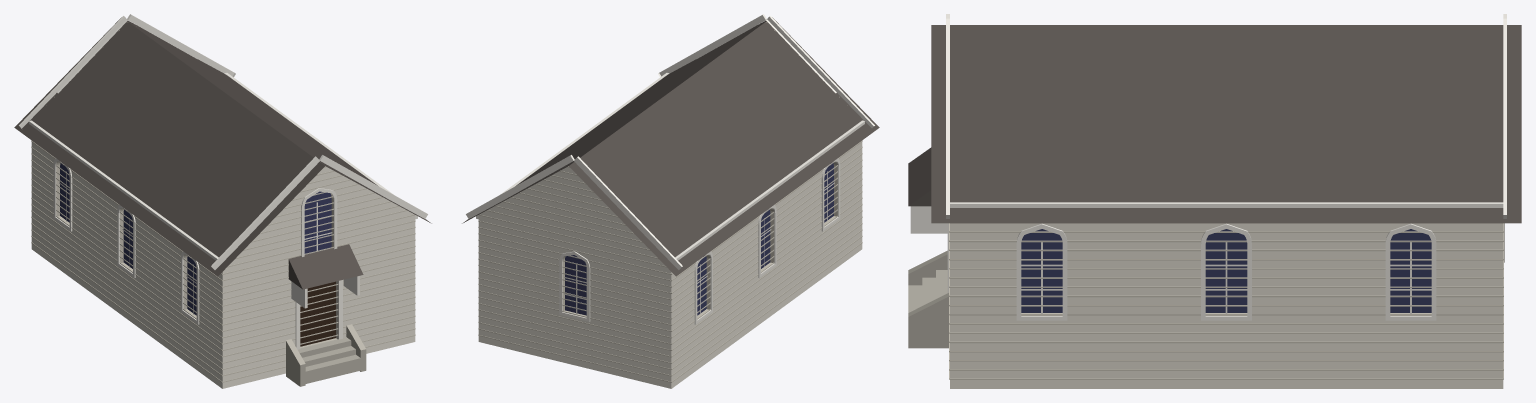
Rendered from ch-second-baptist-argenta-1913.glb.
3 views of the same model, side by side, from view 1: azimuth 30°, elevation 25°; view 2: azimuth 150°, elevation 25°; view 3: azimuth 270°, elevation 25° (orthographic). The views are drawn at different scales.
Visible parts, largest first — view 1: ch_roof, ch_brick, ch_brick2, ch_trim, ch_conc, ch_stain, ch_roof2, ch_door; view 2: ch_brick, ch_roof, ch_brick2, ch_trim, ch_stain; view 3: ch_roof, ch_brick, ch_brick2, ch_trim, ch_stain, ch_conc, ch_roof2.
Boxes of the visible parts, <box> form: ch_roof: <box>14,17,431,276</box>; ch_brick: <box>31,142,415,388</box>; ch_brick2: <box>31,22,415,382</box>; ch_trim: <box>19,14,427,349</box>; ch_conc: <box>286,324,366,386</box>; ch_stain: <box>60,162,331,315</box>; ch_roof2: <box>288,244,363,289</box>; ch_door: <box>300,281,335,346</box>; ch_brick: <box>478,142,862,388</box>; ch_roof: <box>462,17,879,276</box>; ch_brick2: <box>478,22,862,382</box>; ch_trim: <box>466,14,874,324</box>; ch_stain: <box>565,162,833,315</box>; ch_roof: <box>931,25,1521,223</box>; ch_brick: <box>950,223,1503,388</box>; ch_brick2: <box>949,223,1503,379</box>; ch_trim: <box>910,14,1506,320</box>; ch_stain: <box>1021,229,1431,312</box>; ch_conc: <box>908,250,948,348</box>; ch_roof2: <box>908,147,931,206</box>.
Bounding box in the file's own units: 7.84 × 7.38 × 13.3.
